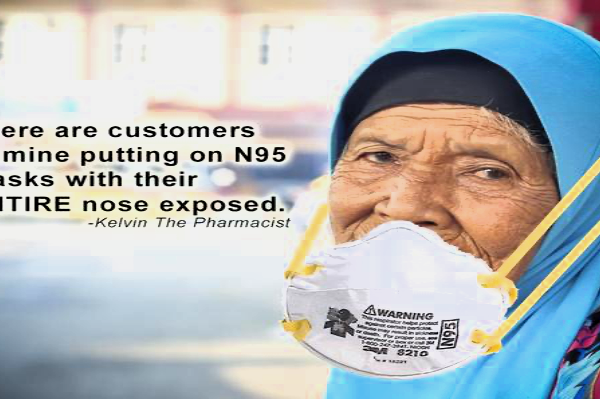mask_weared_incorrect: (325, 128, 549, 307)
